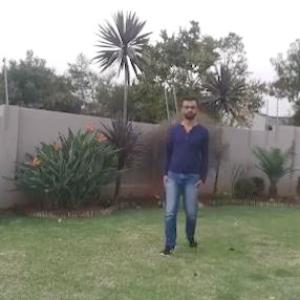follow: (164, 96, 206, 242)
